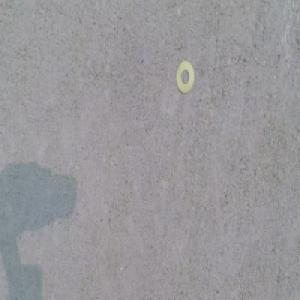Washer: (175, 62, 194, 93)
